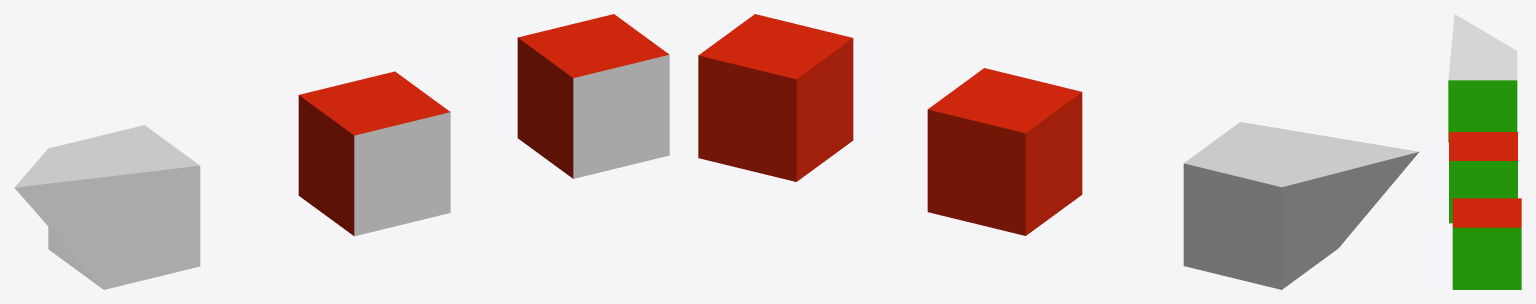
3 views of the same model, side by side, from view 1: azimuth 30°, elevation 25°; view 2: azimuth 150°, elevation 25°; view 3: azimuth 270°, elevation 25° (orthographic). The views are drawn at different scales.
Visible parts, largest first — view 1: Cube.002, Cube, Cube.001; view 2: Cube.002, Cube.001, Cube; view 3: Cube.002, Cube.001, Cube.
Boxes of the visible parts, x1,y1,x2,y2 form: Cube.002: (14, 125, 200, 289); Cube: (298, 71, 450, 236); Cube.001: (517, 14, 669, 178); Cube.002: (1183, 122, 1419, 289); Cube.001: (698, 14, 853, 181); Cube: (927, 68, 1082, 235); Cube.002: (1448, 14, 1517, 142); Cube.001: (1452, 198, 1521, 289); Cube: (1449, 132, 1517, 223).
Size of the model in its own units: 1358 by 252 by 212.
